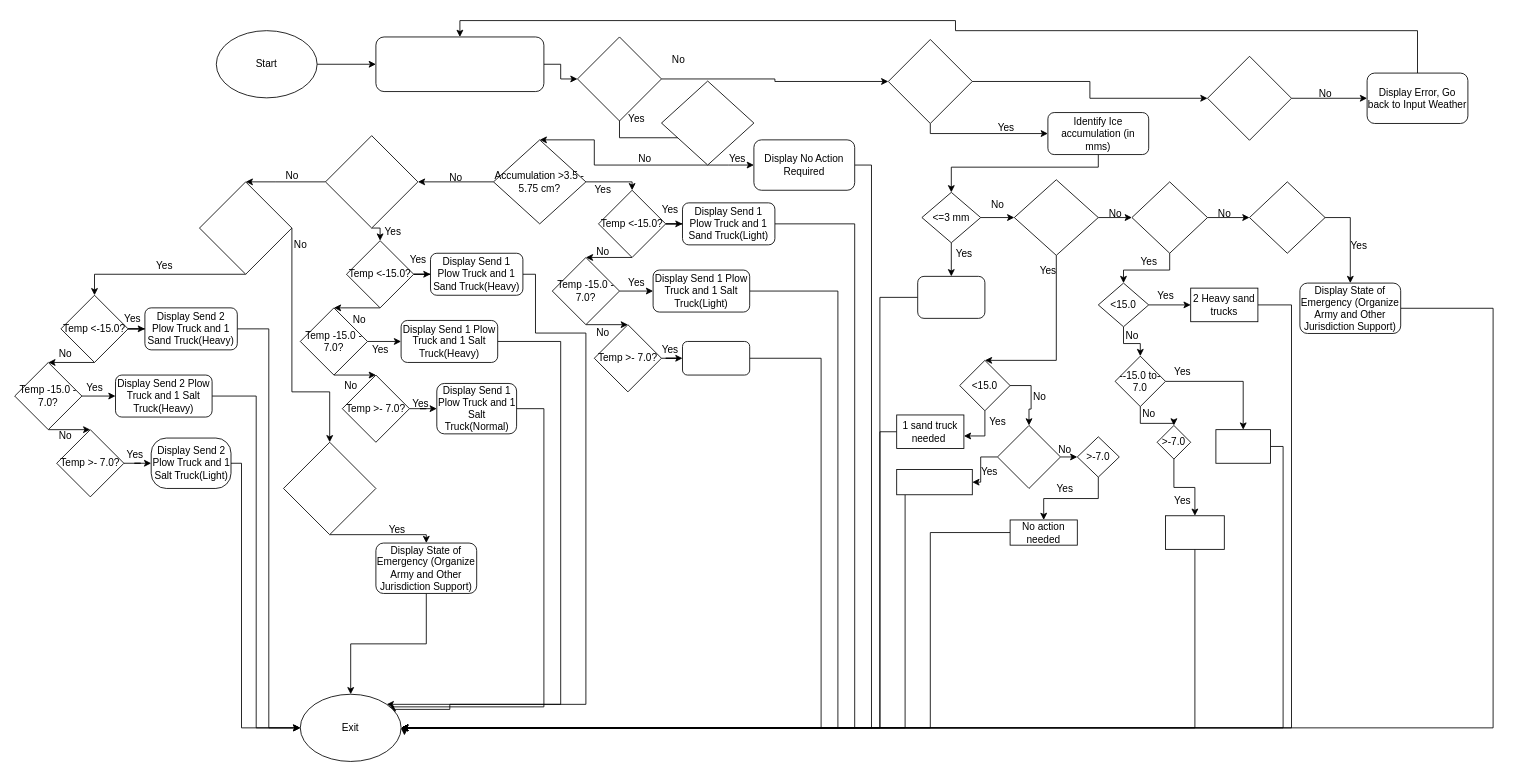
This 1515x776 diagram has some shape labels left out. Each missing label, with the box of its shape:
-15.0 to-7.0: (997, 425, 1060, 488)
1 heavy salt truck: (1165, 515, 1224, 549)
1 salt truck: (896, 469, 972, 495)
2 heavy salt trucks: (1215, 429, 1270, 463)
3.0 to 5.0mm: (1013, 179, 1098, 255)
>17.0mm: (1249, 181, 1325, 253)
>5.5-17.0mm: (1131, 181, 1208, 253)
Accumulation <= 3.5?: (661, 80, 754, 165)
Accumulation > -16.5 - 40.0 cm?: (199, 181, 292, 274)
Accumulation >40.0 cm?: (283, 441, 376, 535)
Accumulation >5.75- 16.5 cm?: (325, 135, 418, 228)
Display Send 1 Plow Truck: (682, 341, 750, 375)
Input Type of Weather, Accumulation Amount and Temperature: (375, 36, 544, 92)
Is Weather Ice?: (887, 39, 972, 123)
Is Weather Mixed?: (577, 36, 662, 121)
Is Weather Snow?: (1207, 55, 1292, 140)
NO Action Required: (917, 276, 985, 318)
